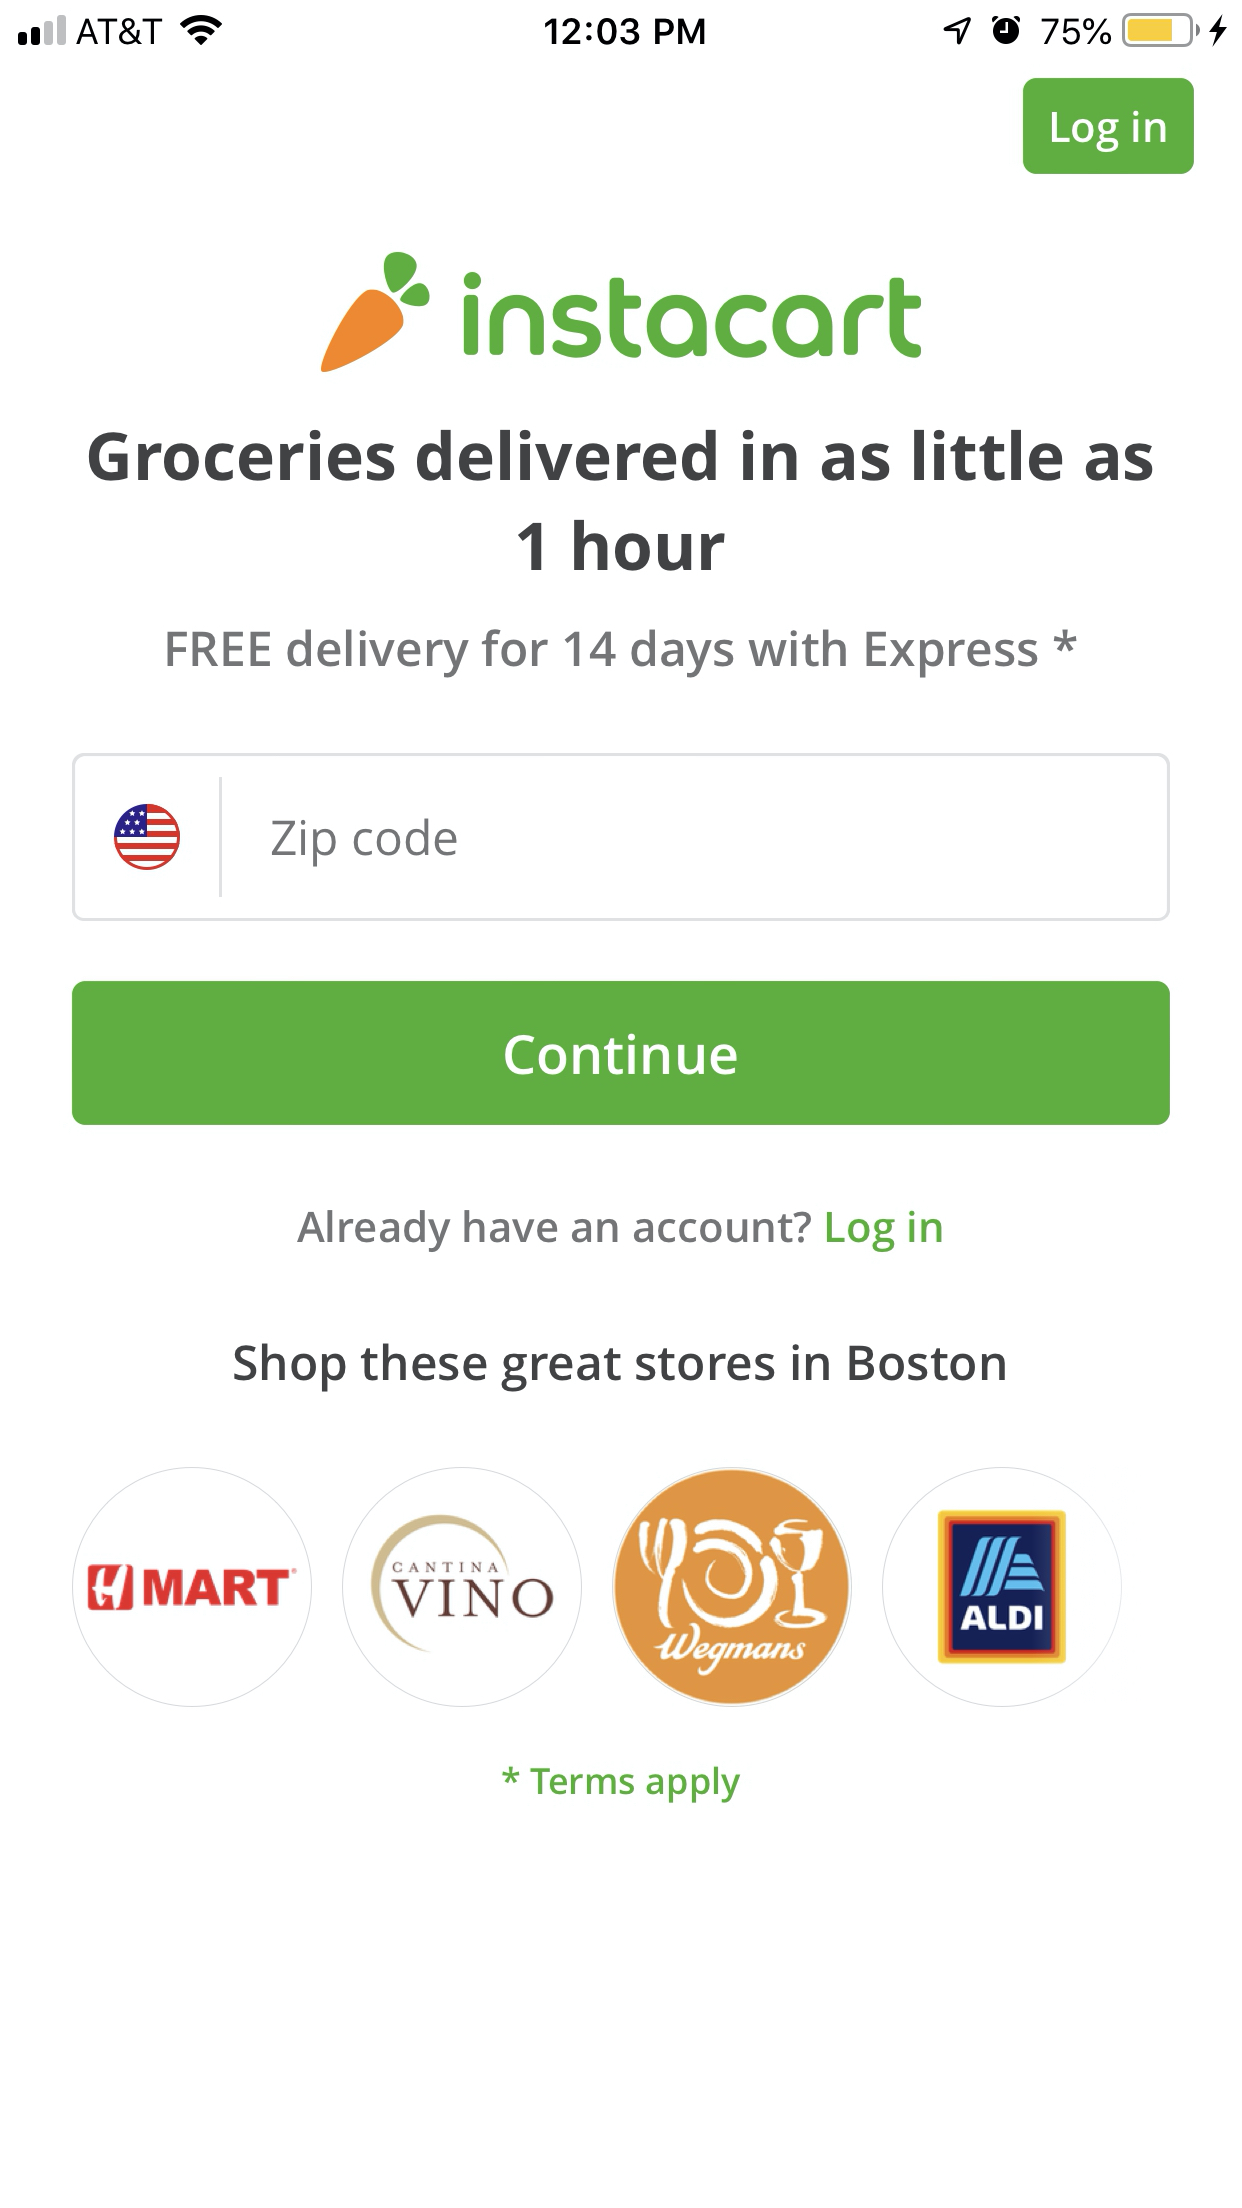EditText: (71, 754, 1171, 922)
Image: (610, 1465, 854, 1708), (341, 1466, 584, 1709), (881, 1466, 1124, 1708), (71, 1466, 314, 1708), (321, 252, 431, 375), (115, 804, 182, 870)
Text: (89, 429, 1154, 573), (167, 629, 1077, 679), (463, 271, 922, 359), (234, 1342, 1005, 1394), (297, 1210, 943, 1254), (500, 1764, 742, 1805), (271, 817, 458, 867)
TextButton: (71, 981, 1171, 1127), (1022, 77, 1193, 174)
UpperTaskBar: (2, 2, 1242, 49)
